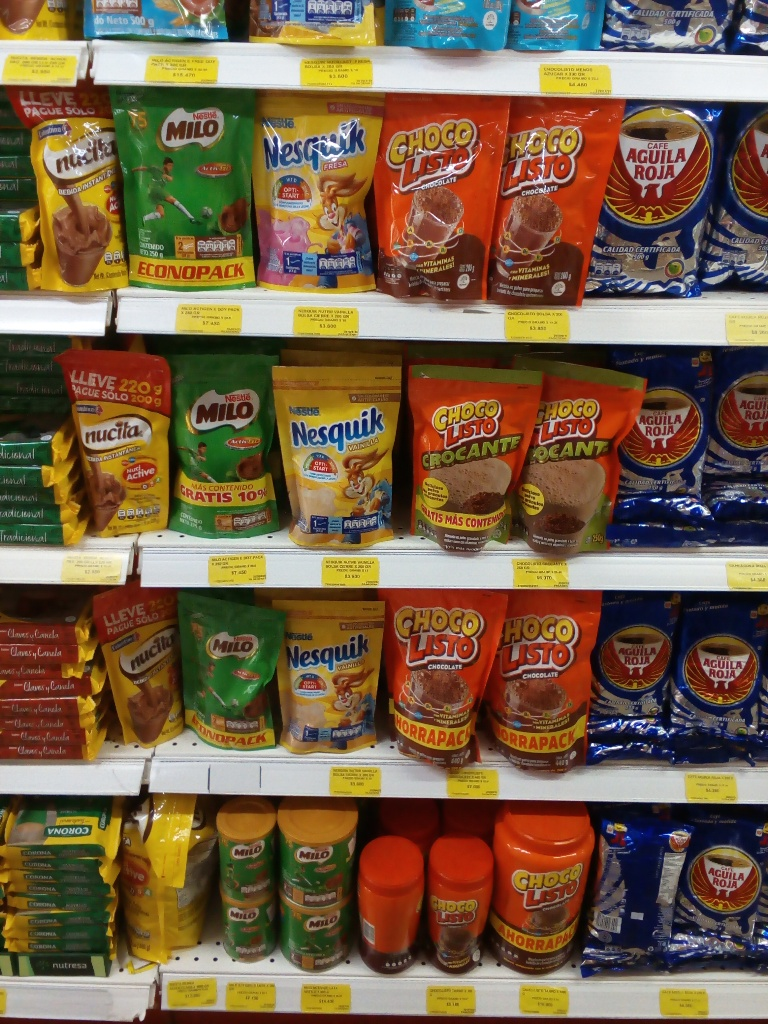COL0170102DYP25000: (516, 353, 635, 553)
COL0170103DYP44000: (383, 589, 498, 767)
COL0170103TRR00100: (492, 799, 587, 977)
COL0170103TRR30000: (360, 825, 425, 969)
COL0170203DYP25000: (115, 91, 259, 295)
COL0170203LAT20000: (220, 795, 279, 888)
COL0170203LAT40000: (278, 801, 357, 907)
COL0170305DYP20000: (251, 86, 378, 297)
COL0170306DYP20000: (274, 363, 406, 547)
